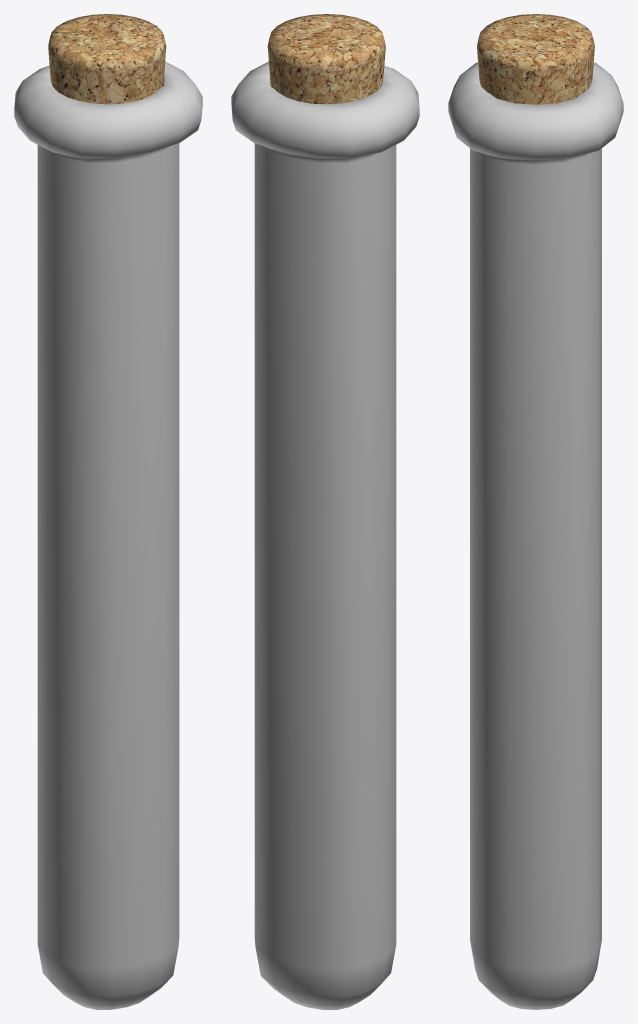
File: Vial.fbx
3 views of the same model, side by side, from view 1: azimuth 30°, elevation 25°; view 2: azimuth 150°, elevation 25°; view 3: azimuth 270°, elevation 25° (orthographic).
Parts seen in each view (by area): view 1: Vial_LOD0, Cork; view 2: Vial_LOD0, Cork; view 3: Vial_LOD0, Cork.
Part boxes in pixels (box(x1,y1,x2,y2)): Vial_LOD0: box(14, 61, 202, 1009); Cork: box(48, 14, 166, 104); Vial_LOD0: box(231, 62, 419, 1009); Cork: box(267, 14, 385, 104); Vial_LOD0: box(448, 62, 623, 1009); Cork: box(477, 14, 594, 104).
Size of what is drawn, in the model's own units: 9.52 by 53.76 by 8.89.
